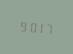nine: (18, 18, 26, 33)
one: (36, 20, 44, 34)
seven: (45, 20, 53, 35)
zero: (27, 19, 35, 33)
